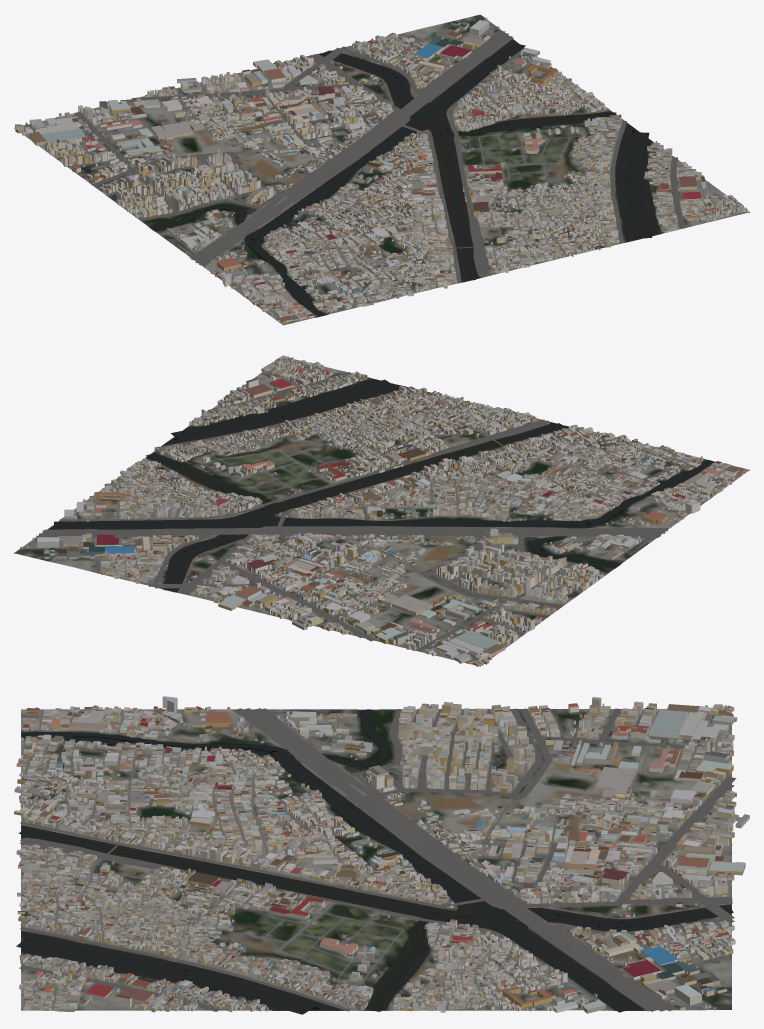
3 views of the same model, one above another, from view 1: azimuth 30°, elevation 25°; view 2: azimuth 150°, elevation 25°; view 3: azimuth 270°, elevation 25° (orthographic). The views are drawn at different scales.
Visible parts, largest first — view 1: buildings, ground, roads, water; view 2: buildings, ground, roads, water; view 3: buildings, ground, roads, water.
Boxes of the visible parts, x1,y1,x2,y2 form: buildings: (15,17,748,323); ground: (14,14,749,325); roads: (24,24,749,320); water: (106,39,659,316); buildings: (20,355,745,666); ground: (14,359,749,666); roads: (29,360,741,663); water: (48,378,713,592); buildings: (14,696,749,1013); ground: (21,709,731,1010); roads: (19,708,736,1011); water: (16,709,733,1014).
Size of the model in its own units: 1432 by 33.21 by 1449.
